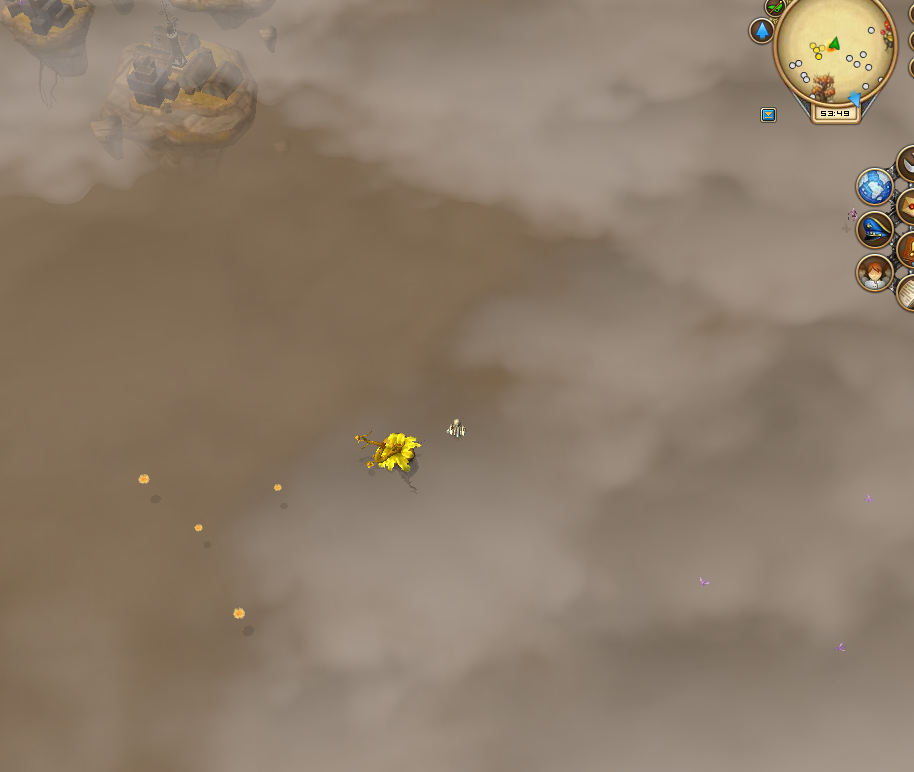dandelion-empty: (352, 420, 424, 490)
fluff: (129, 465, 154, 493), (226, 600, 251, 624), (189, 513, 207, 539), (264, 478, 288, 496)
